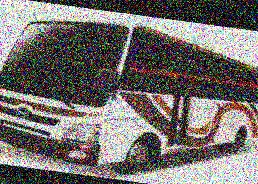bus: (0, 1, 258, 184)
